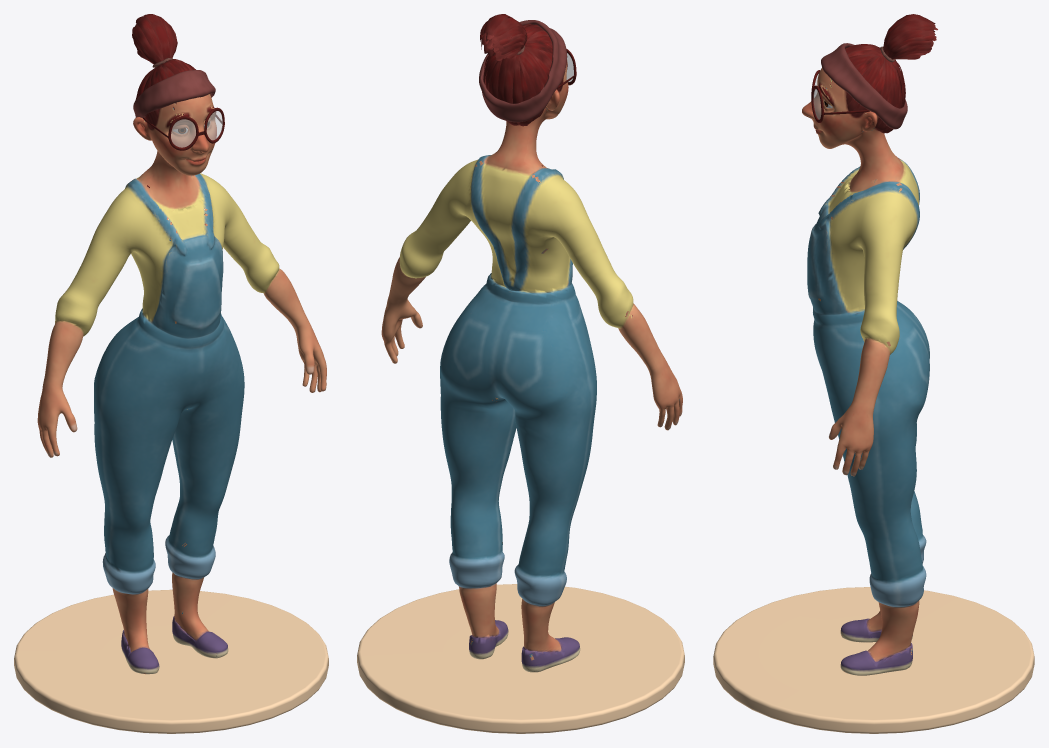
File: girl.glb
3 renders of one model, left to right at view 1: azimuth 30°, elevation 25°; view 2: azimuth 150°, elevation 25°; view 3: azimuth 270°, elevation 25°, orthographic. The views are drawn at different scales.
Visible parts, largest first — view 1: Body, Base, Hair, Hairband, GlassesFrame, Glasses; view 2: Body, Base, Hair, Hairband; view 3: Body, Base, Hair, Hairband.
Boxes of the visible parts, x1,y1,x2,y2 form: Body: (37, 94, 326, 674); Base: (14, 589, 328, 733); Hair: (132, 14, 210, 129); Hairband: (133, 70, 215, 117); GlassesFrame: (171, 111, 222, 147); Glasses: (142, 107, 224, 150); Body: (381, 60, 682, 672); Base: (357, 584, 684, 733); Hair: (480, 14, 563, 126); Hairband: (479, 20, 567, 122); Body: (802, 67, 929, 675); Base: (713, 587, 1034, 733); Hair: (845, 14, 937, 133); Hairband: (821, 43, 907, 129).
Bounding box in the file's own units: 0.8181 × 1.78 × 0.794.
8 materials, 6 textured.
